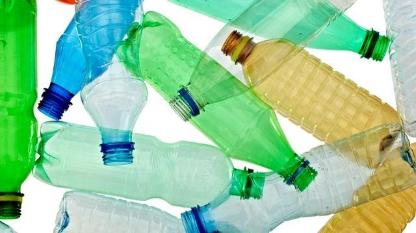Plastic Bottle: (115, 9, 321, 195), (219, 29, 406, 172), (178, 123, 416, 233), (162, 1, 393, 68), (36, 1, 146, 122), (1, 0, 42, 224)
